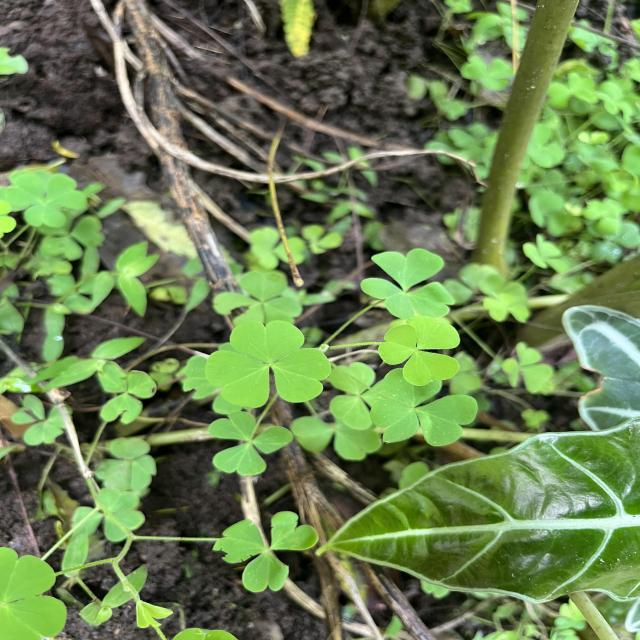Oxalis corniculata: (204, 320, 333, 410), (212, 510, 320, 593), (368, 369, 478, 447), (358, 248, 456, 320), (378, 315, 462, 387), (208, 411, 296, 476)
